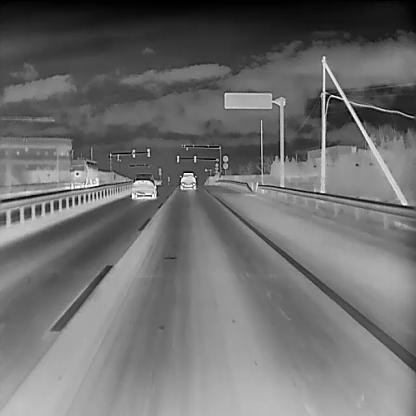car: (131, 172, 157, 198), (178, 171, 196, 188)
truck: (68, 156, 100, 189)
